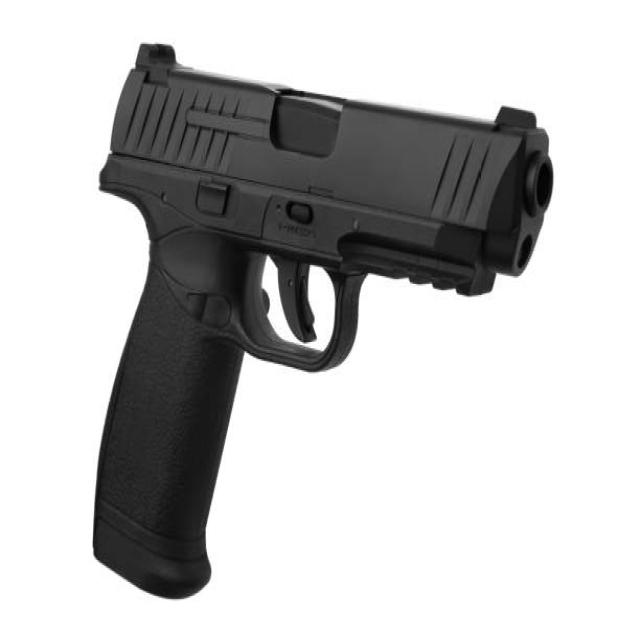pistol: (74, 29, 560, 604)
